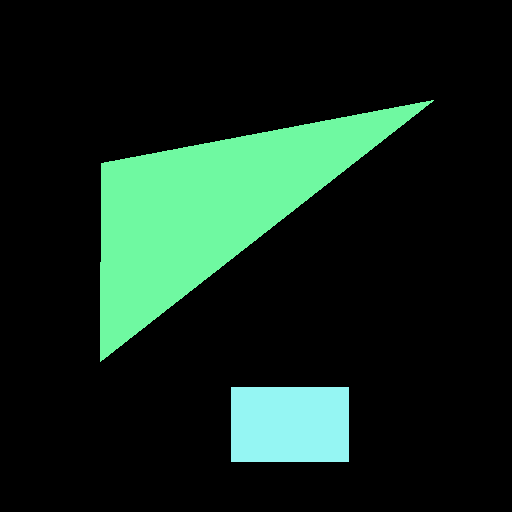rectangle: (231, 387, 348, 461)
triangle: (100, 100, 433, 361)
